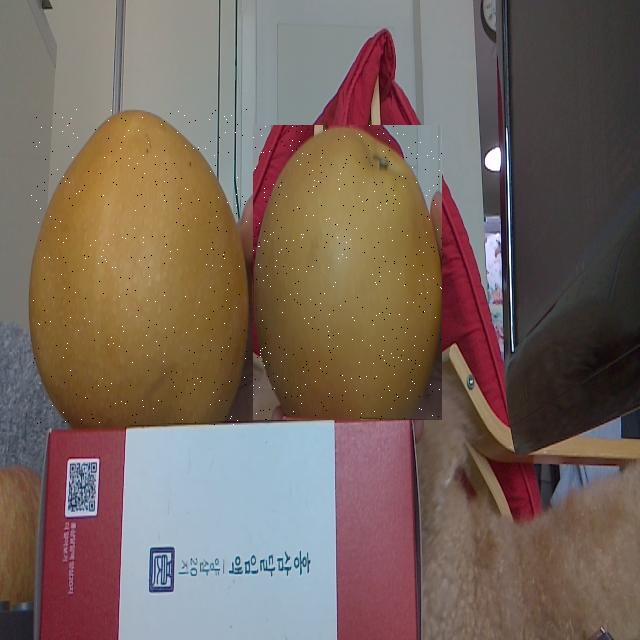pear: (30, 108, 247, 426), (253, 125, 442, 420)
